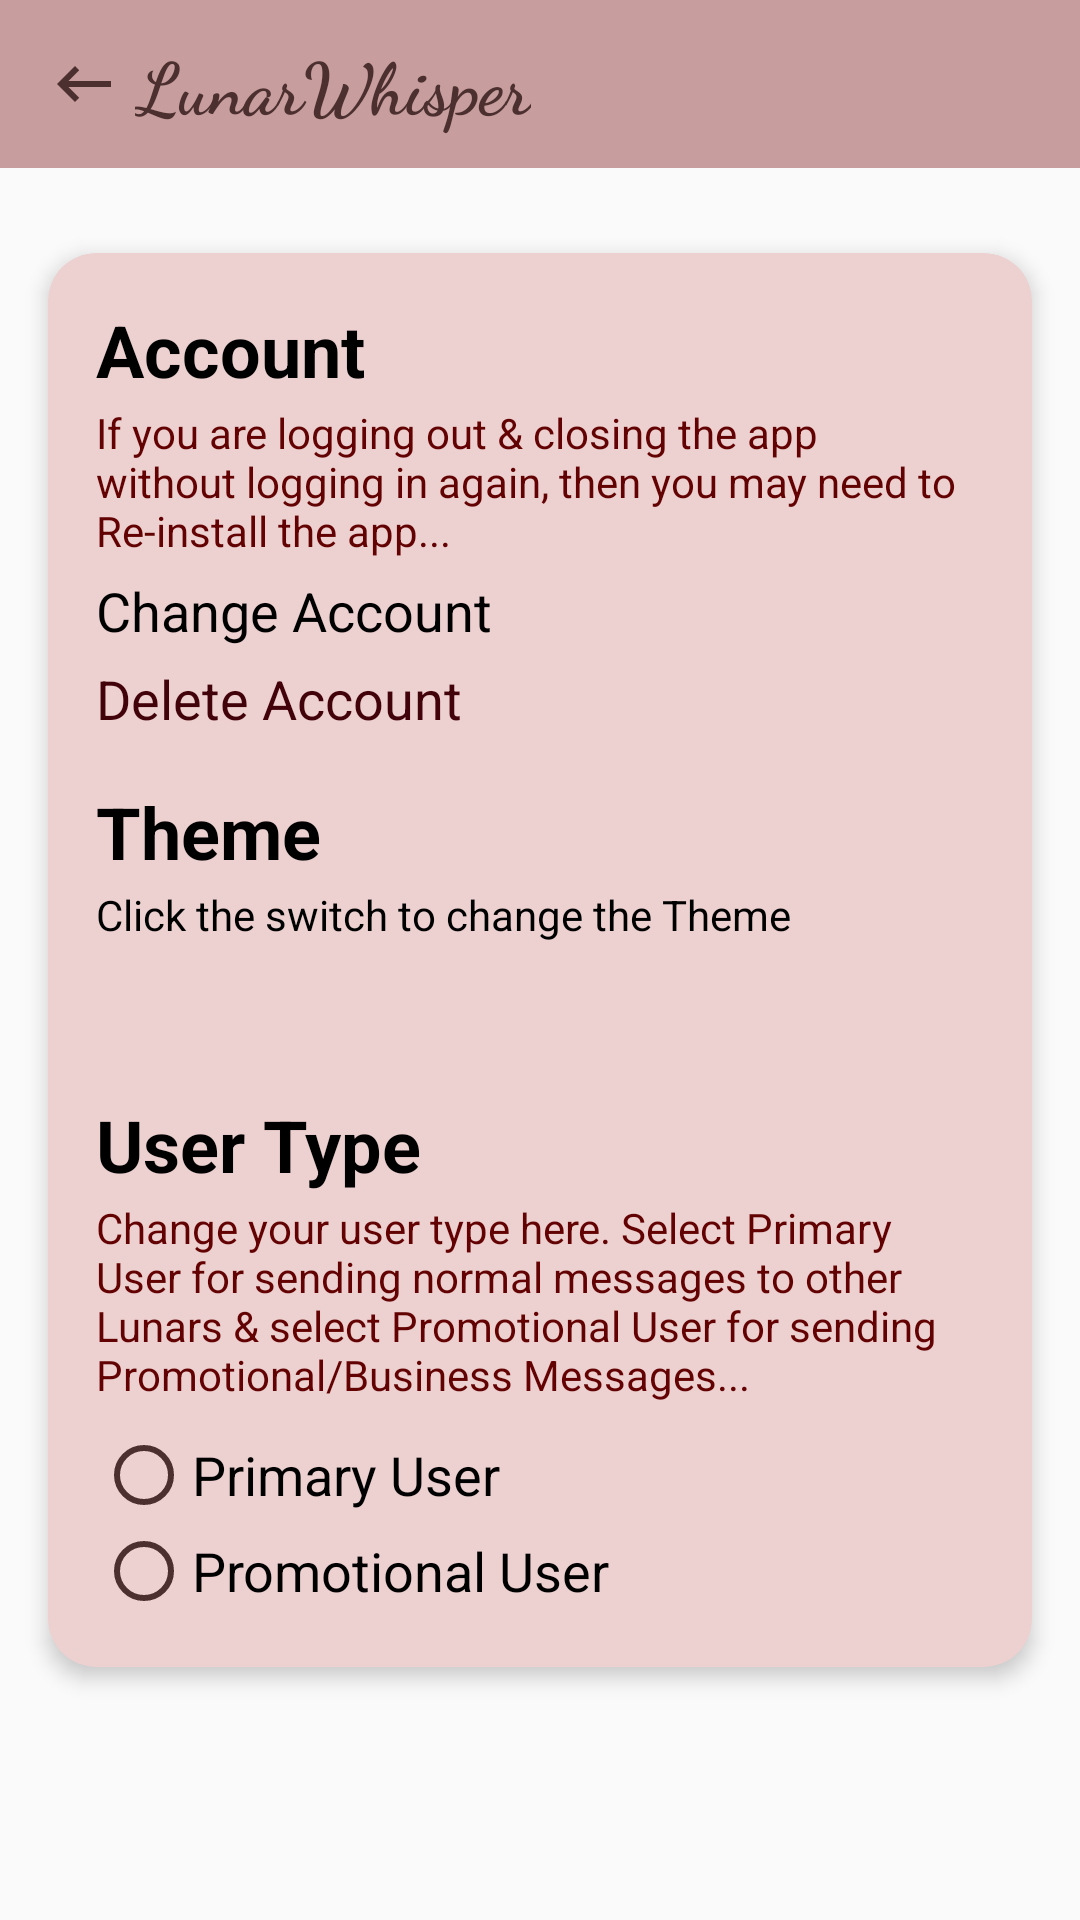

Named icons in this screenshot (1080×1920) and their bounding boxes, (x1, y1, x2, y2):
keyboard backspace: (57, 66, 111, 102)
